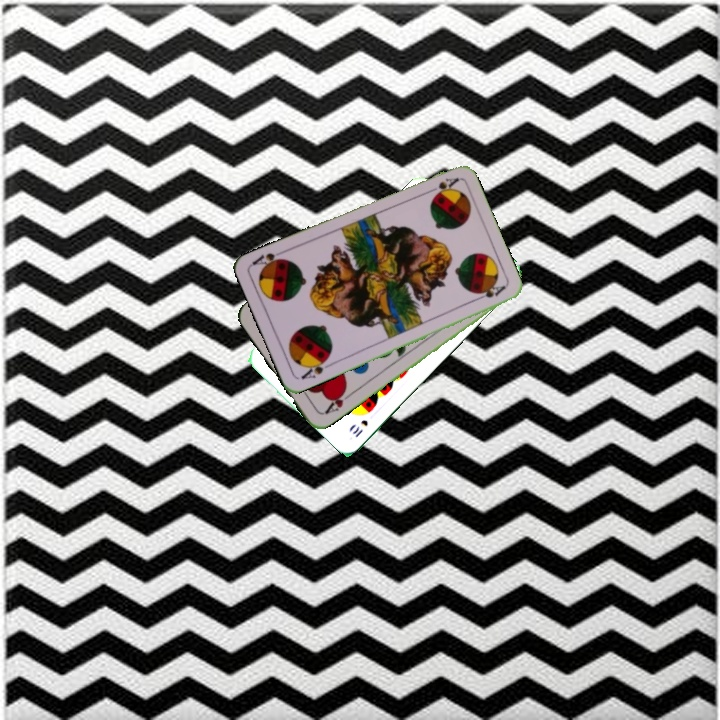HA: (319, 385, 355, 417)
S10: (348, 416, 371, 440)
SA: (297, 354, 335, 382), (422, 173, 461, 198)
